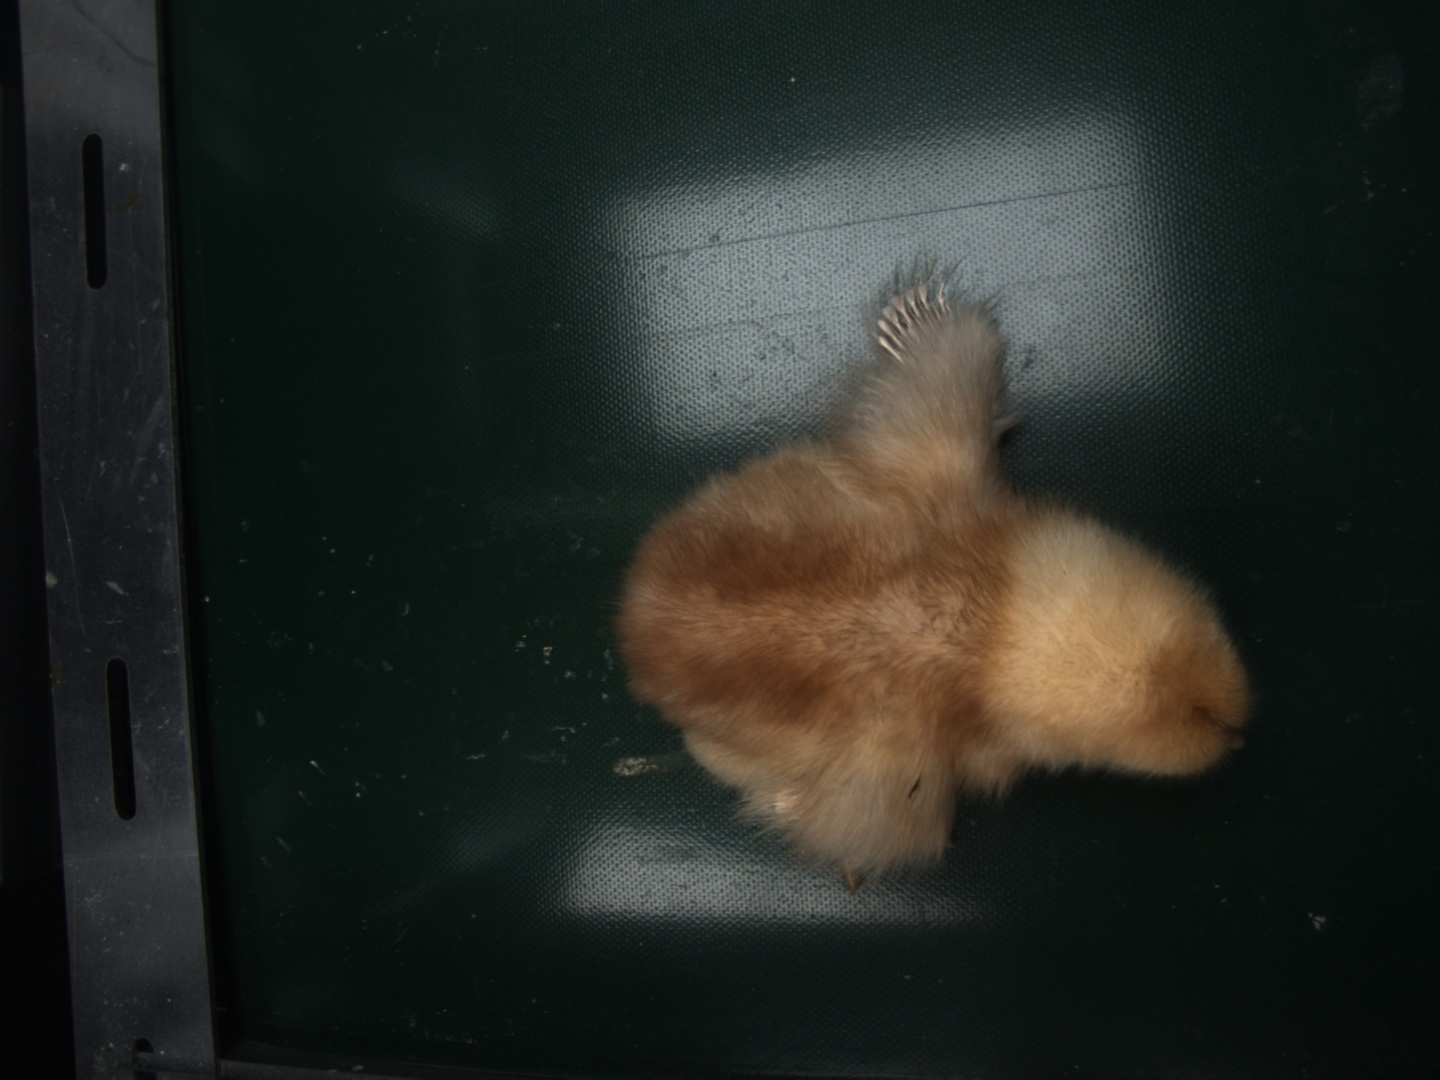female: (875, 282, 954, 366)
